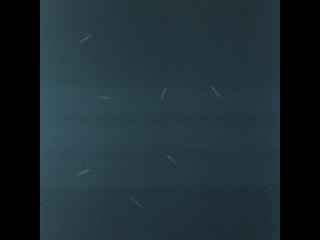scratch: (124, 191, 145, 211), (76, 32, 94, 47), (208, 83, 222, 100), (163, 151, 178, 166), (74, 165, 92, 176), (158, 85, 168, 101), (96, 94, 113, 101)
